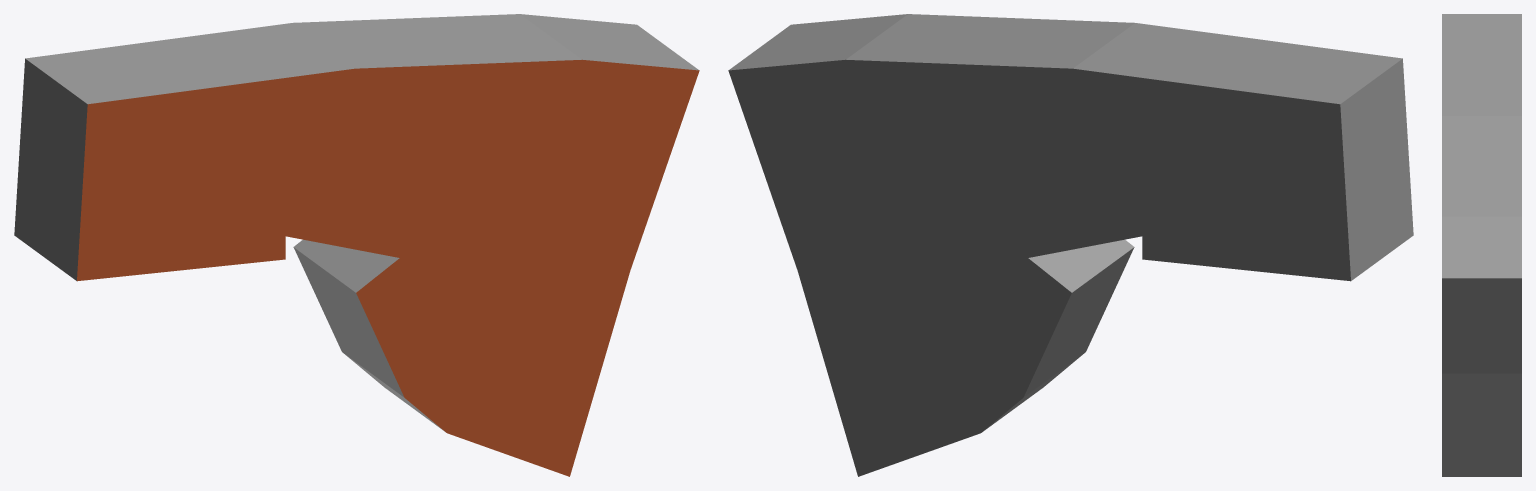
Rendered from construction_0463_assumed_A_Casa_h6m.obj.
The picture shows the model from 3 angles, left to right: view 1: azimuth 30°, elevation 25°; view 2: azimuth 150°, elevation 25°; view 3: azimuth 270°, elevation 25°; orthographic projection. The views are drawn at different scales.
Parts seen in each view (by area): view 1: construction_0463_assumed_A_Casa; view 2: construction_0463_assumed_A_Casa; view 3: construction_0463_assumed_A_Casa.
Boxes of the visible parts, x1,y1,x2,y2 form: construction_0463_assumed_A_Casa: (14, 14, 699, 476); construction_0463_assumed_A_Casa: (728, 14, 1413, 476); construction_0463_assumed_A_Casa: (1442, 14, 1521, 476).
Bounding box in the file's own units: 34.47 × 25.93 × 6.
